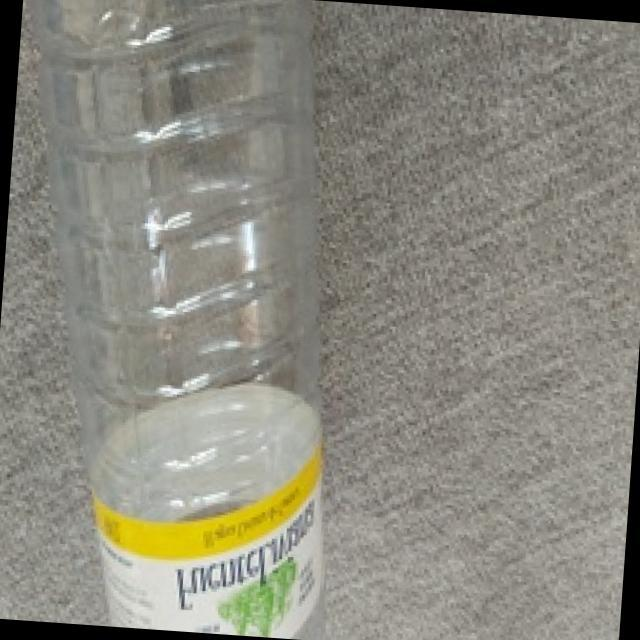good: (63, 0, 360, 640)
